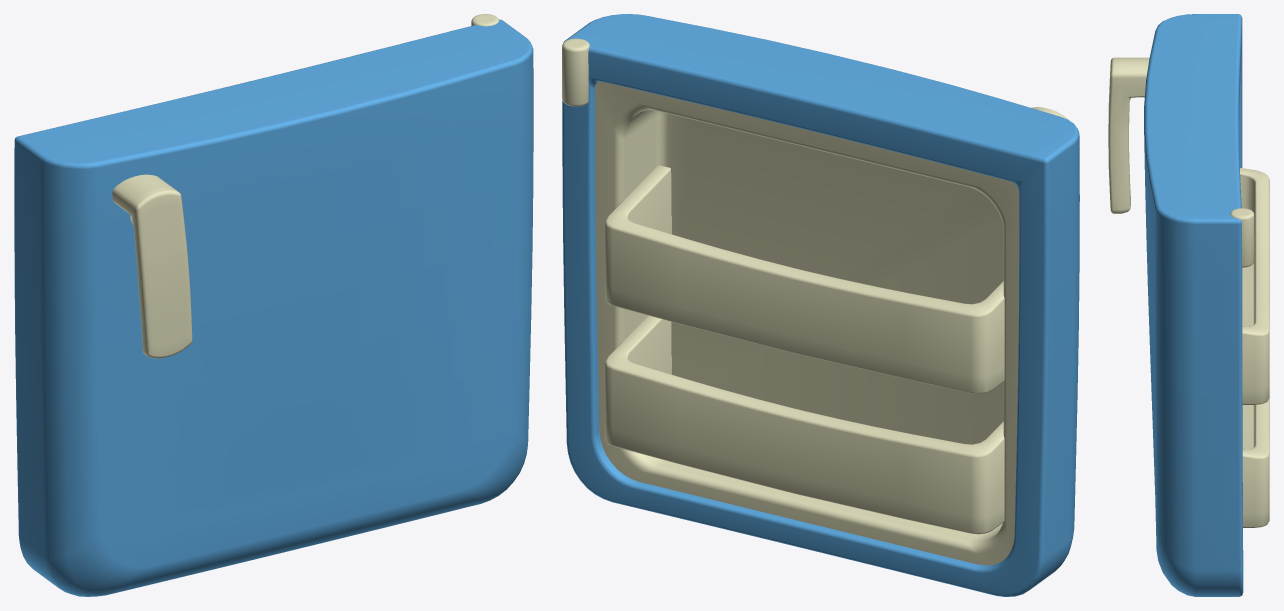
File: SM_Fridge_01_Door_Bottom.fbx
The picture shows the model from 3 angles, left to right: view 1: azimuth 30°, elevation 25°; view 2: azimuth 150°, elevation 25°; view 3: azimuth 270°, elevation 25°; orthographic projection. The views are drawn at different scales.
Parts seen in each view (by area): view 1: Cube.037, Cube.036; view 2: Cube.041, Cube.037, Cube.042, Cylinder.008; view 3: Cube.037, Cube.042, Cube.036, Cylinder.008.
Boxes of the visible parts, x1,y1,x2,y2 form: Cube.037: (14,19,533,596); Cube.036: (112,174,192,358); Cube.041: (595,81,1019,565); Cube.037: (562,14,1079,596); Cube.042: (605,165,1004,534); Cylinder.008: (562,38,589,106); Cube.037: (1144,14,1243,596); Cube.042: (1240,168,1269,527); Cube.036: (1108,57,1149,213); Cylinder.008: (1230,208,1254,267).
Bounding box in the file's own units: 121 × 107 × 39.56.
